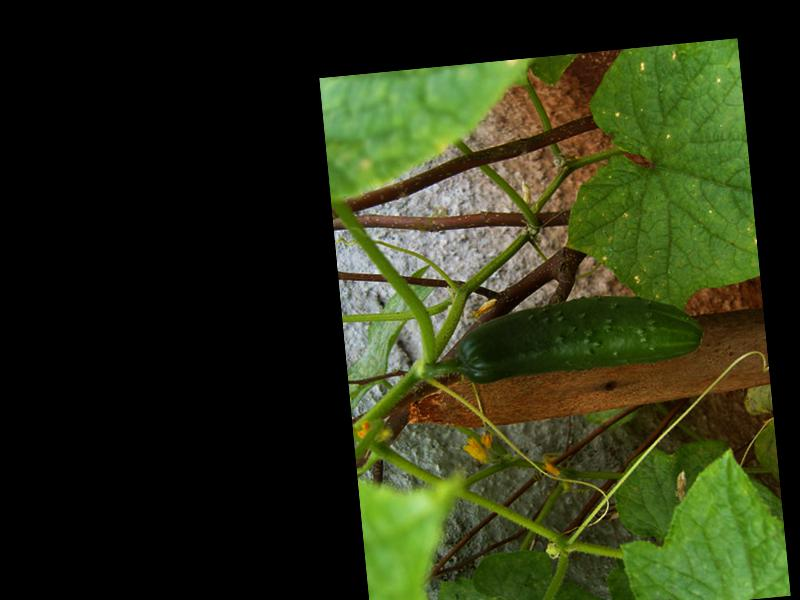Cucumber: (450, 286, 705, 387)
